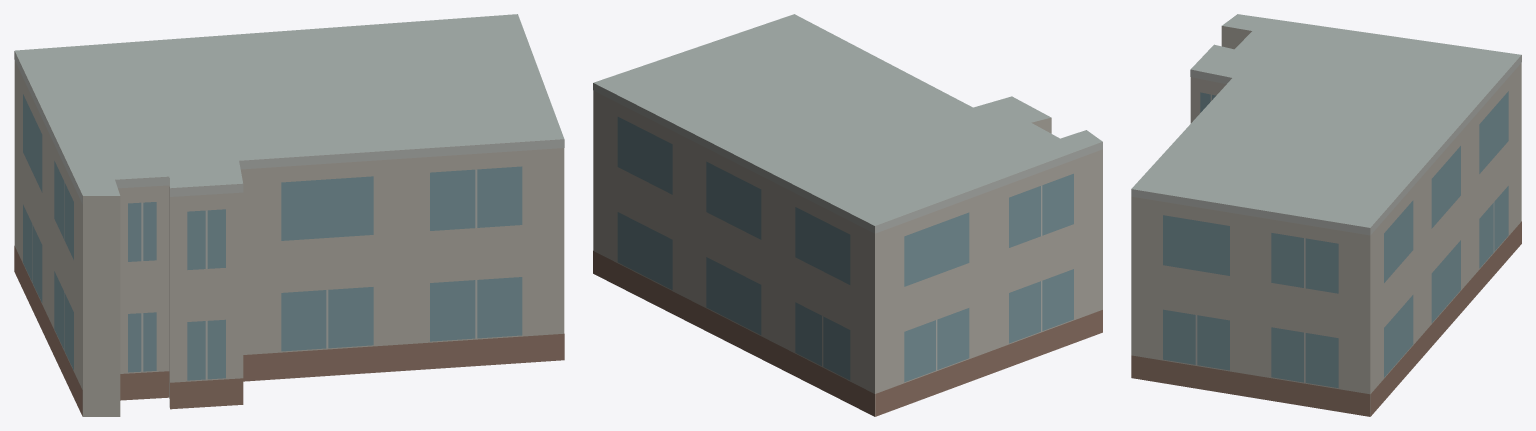
Rendered from survey-upis-32552807.glb.
3 renders of one model, left to right at view 1: azimuth 30°, elevation 25°; view 2: azimuth 150°, elevation 25°; view 3: azimuth 270°, elevation 25°, orthographic. The views are drawn at different scales.
Visible parts, largest first — view 1: survey-upis-32552807.tmp; view 2: survey-upis-32552807.tmp; view 3: survey-upis-32552807.tmp.
Boxes of the visible parts, x1=… form: survey-upis-32552807.tmp: x1=14, y1=14, x2=564, y2=416; survey-upis-32552807.tmp: x1=593, y1=14, x2=1102, y2=416; survey-upis-32552807.tmp: x1=1131, y1=14, x2=1521, y2=416.
Bounding box in the file's own units: 14.82 × 6.1 × 11.44.
